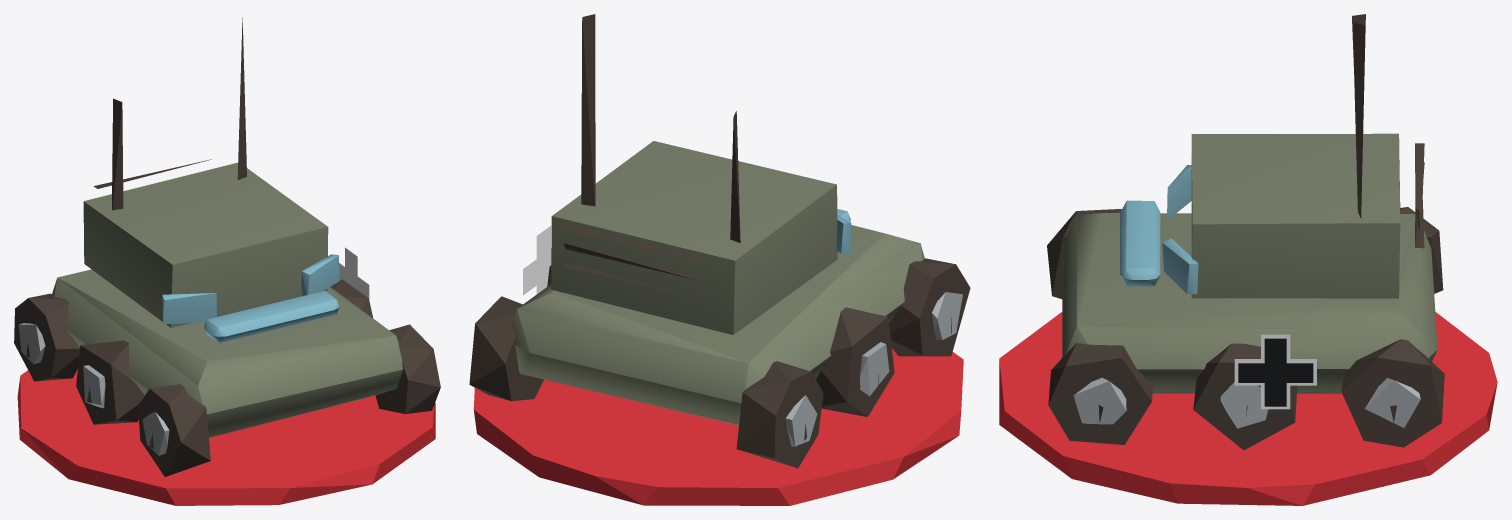
The model's file is germany_headquarters_lod1.glb.
The picture shows the model from 3 angles, left to right: view 1: azimuth 30°, elevation 25°; view 2: azimuth 150°, elevation 25°; view 3: azimuth 270°, elevation 25°; orthographic projection. The views are drawn at different scales.
Visible parts, largest first — view 1: body_hull, base_pedestal; view 2: body_hull, base_pedestal; view 3: body_hull, base_pedestal.
Boxes of the visible parts, x1,y1,x2,y2 form: body_hull: [14, 17, 440, 476]; base_pedestal: [17, 369, 435, 505]; body_hull: [469, 14, 970, 468]; base_pedestal: [473, 348, 963, 505]; body_hull: [1047, 14, 1444, 450]; base_pedestal: [999, 312, 1497, 505].
Bounding box in the file's own units: 0.7751 × 0.7101 × 0.7751.
